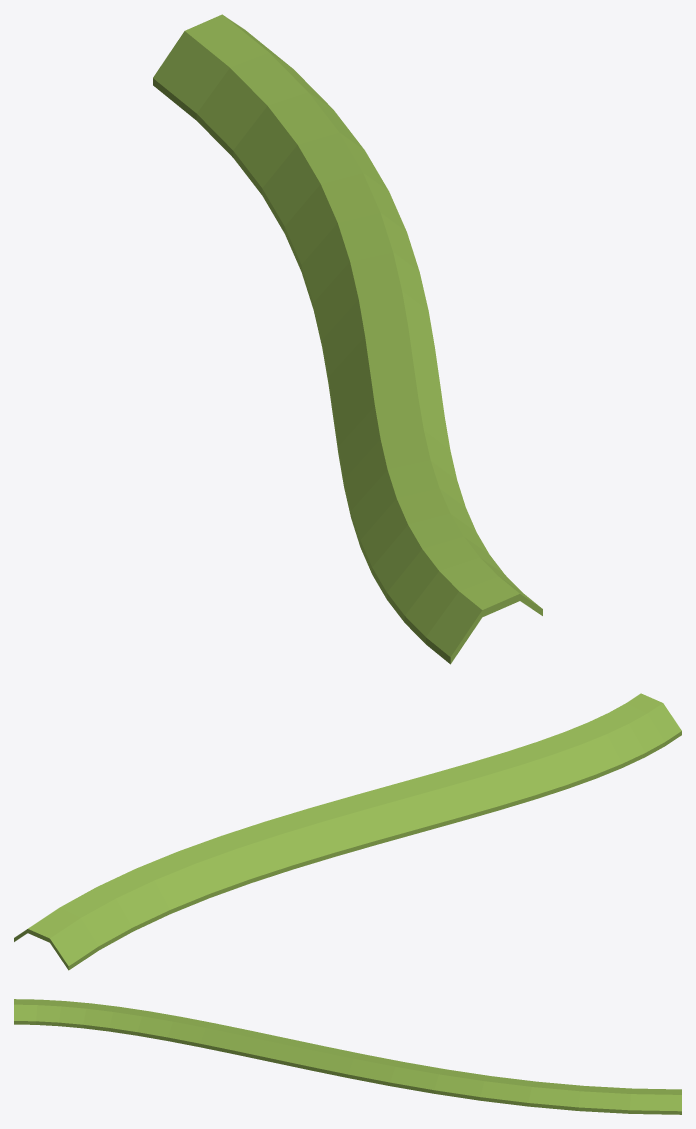
3 renders of one model, top to bottom at view 1: azimuth 30°, elevation 25°; view 2: azimuth 150°, elevation 25°; view 3: azimuth 270°, elevation 25°, orthographic. The views are drawn at different scales.
Parts seen in each view (by area): view 1: S形河流_右岸折纸.001; view 2: S形河流_右岸折纸.001; view 3: S形河流_右岸折纸.001.
Part boxes in pixels (x1,y1,x2,y2): S形河流_右岸折纸.001: (153,14,542,664); S形河流_右岸折纸.001: (14,693,681,970); S形河流_右岸折纸.001: (14,999,681,1114).
Size of the model in its own units: 0.8 by 0.089 by 2.
